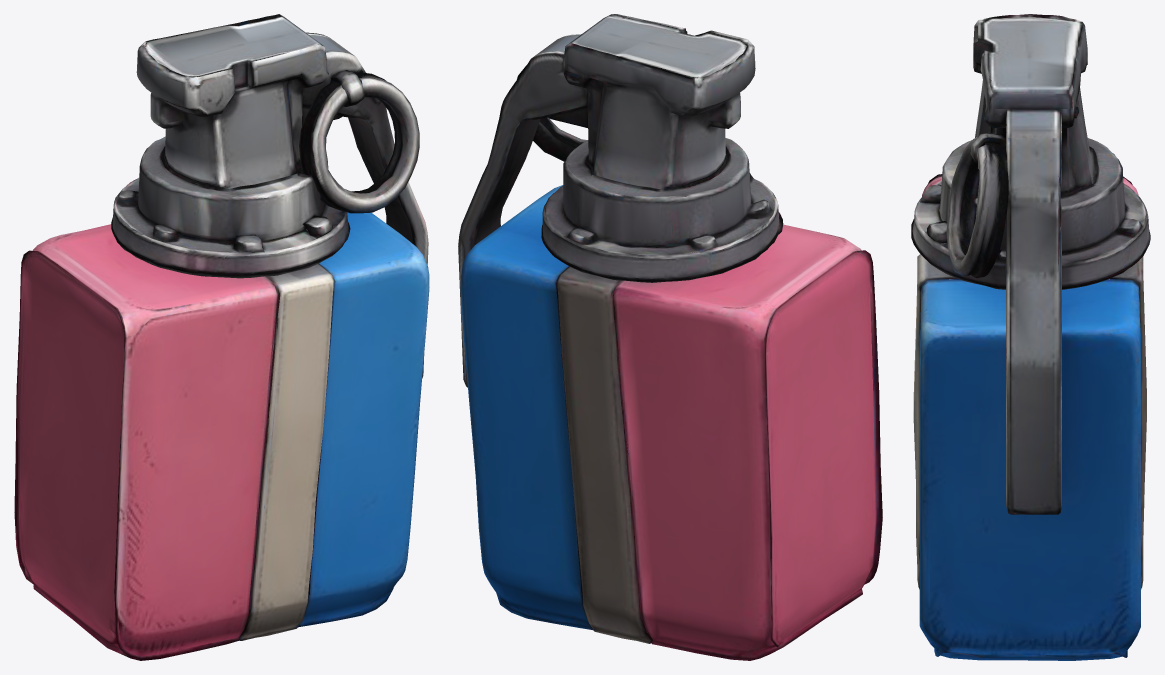
File: grenade_eraser.glb
3 renders of one model, left to right at view 1: azimuth 30°, elevation 25°; view 2: azimuth 150°, elevation 25°; view 3: azimuth 270°, elevation 25°, orthographic.
Visible parts, largest first — view 1: tripo_node_52f84b38-8ab1-4a8f-b320-c7fc67b126b8; view 2: tripo_node_52f84b38-8ab1-4a8f-b320-c7fc67b126b8; view 3: tripo_node_52f84b38-8ab1-4a8f-b320-c7fc67b126b8.
Part boxes in pixels (box(x1,y1,x2,y2)): tripo_node_52f84b38-8ab1-4a8f-b320-c7fc67b126b8: box(14, 14, 429, 660); tripo_node_52f84b38-8ab1-4a8f-b320-c7fc67b126b8: box(458, 14, 882, 660); tripo_node_52f84b38-8ab1-4a8f-b320-c7fc67b126b8: box(911, 14, 1150, 660).
Bounding box in the file's own units: 0.6634 × 1 × 0.3855.
Materials: 1 (1 with a texture image).
